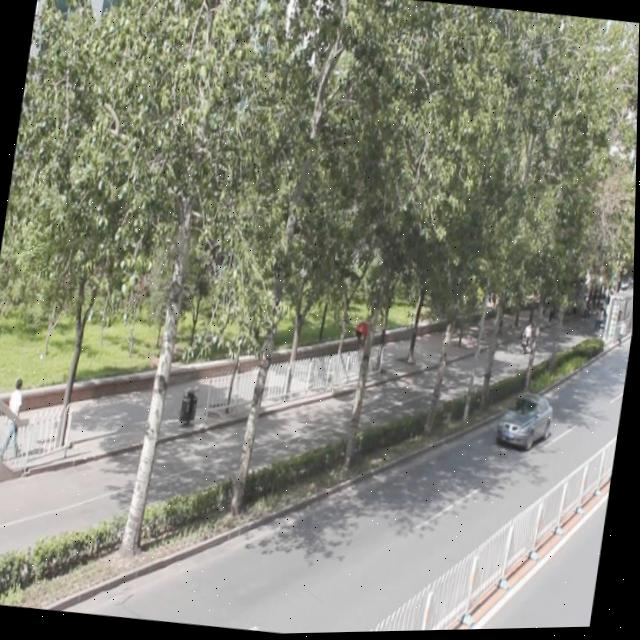car: (494, 388, 556, 453)
